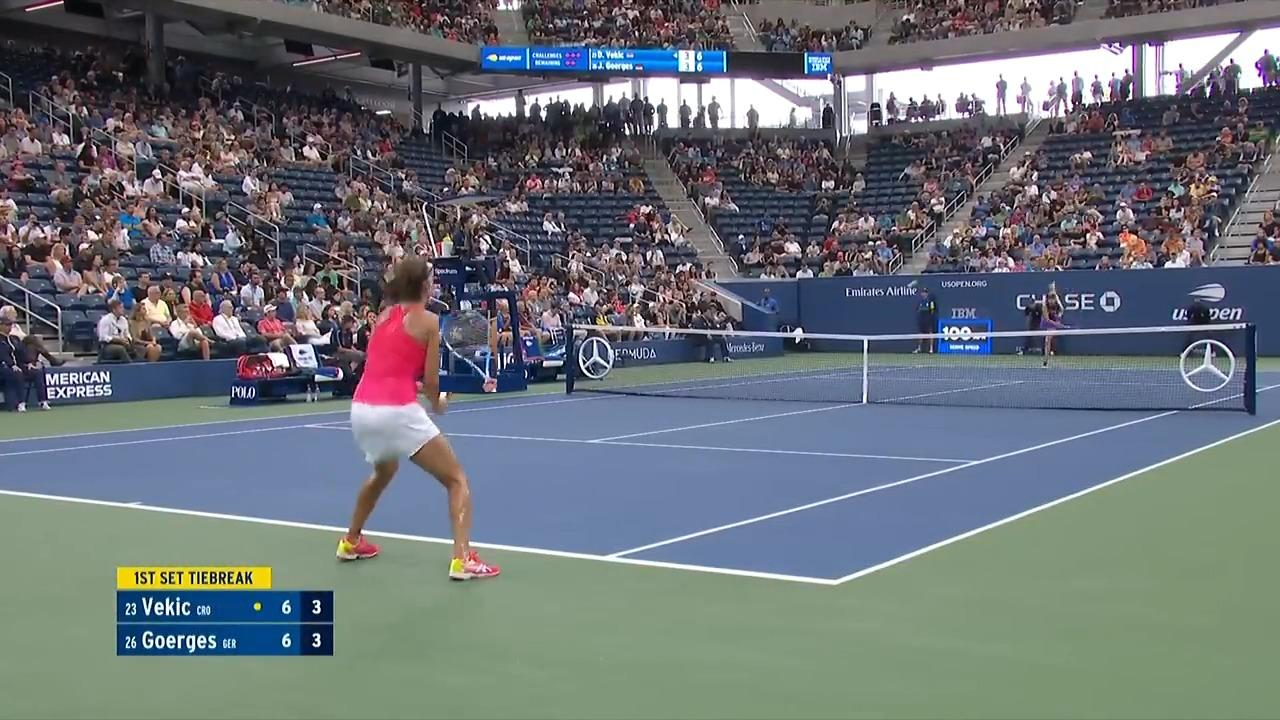tennis racket: (440, 310, 497, 392)
